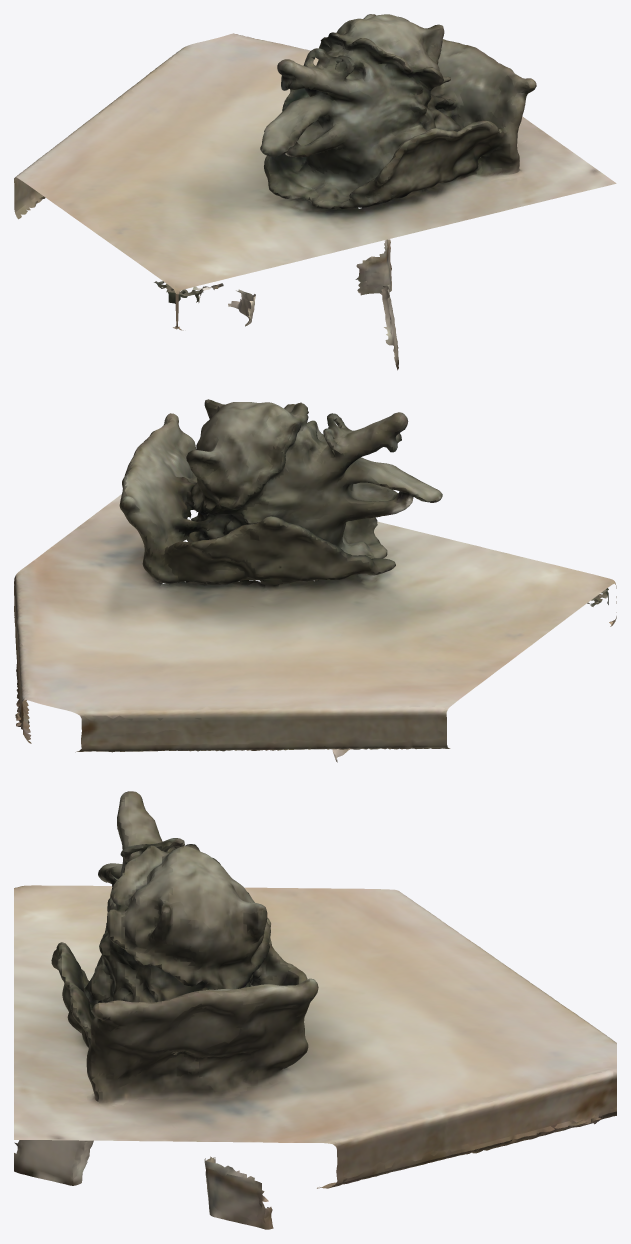
Rendered from loup_ref.glb.
3 views of the same model, one above another, from view 1: azimuth 30°, elevation 25°; view 2: azimuth 150°, elevation 25°; view 3: azimuth 270°, elevation 25° (orthographic). The views are drawn at different scales.
Parts seen in each view (by area): view 1: Model; view 2: Model; view 3: Model.
Part boxes in pixels (x1,y1,x2,y2): Model: (14, 14, 616, 370); Model: (14, 399, 616, 762); Model: (14, 791, 616, 1229).
Bounding box in the file's own units: 0.489 × 0.3081 × 0.489.
Materials: 1 (1 with a texture image).
